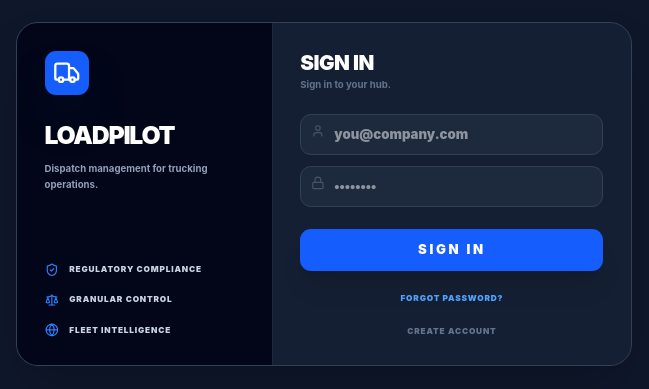
Test: Auth — R-P2-06: Email format validation on blur › clears error when valid email is entered
Type "bad" into the field with placeholder "you@company.com" at (452, 135), box [300,114,604,155]
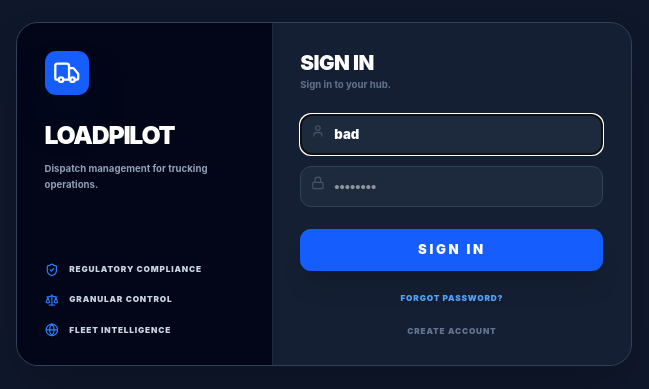
Press Tab
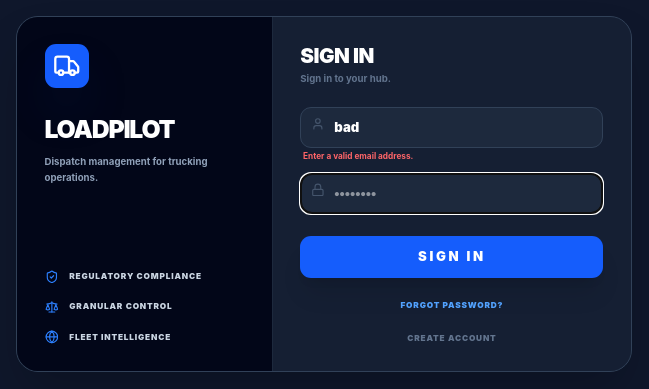
Check: the text "Enter a valid email address." is shown, box [303,151,413,161]
Replace the text in the field with placeholder "you@company.com" with "valid@company.com" at (452, 128), box [300,107,604,148]
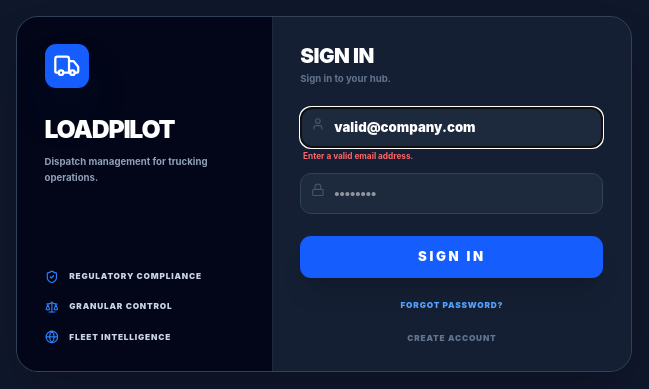
Press Tab
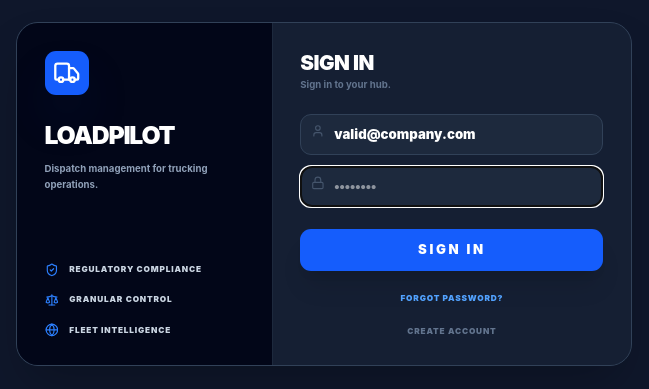
Check: the text "Enter a valid email address." is gone
